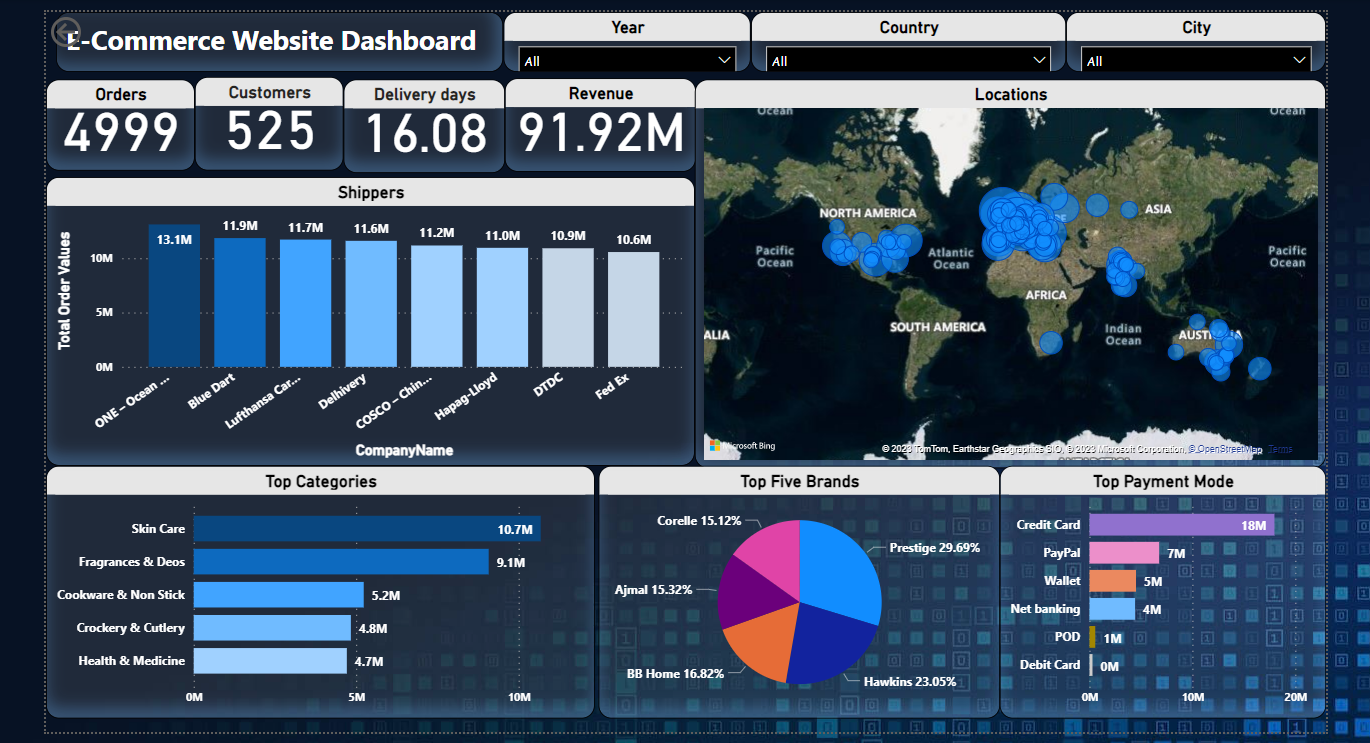

This screenshot's page, from the dashboard's own definition file:
{"tool":"powerbi","page":{"name":"Page 1","canvas":[1280,720],"ordinal":0},"visuals":[{"type":"card","title":"Orders","fields":{"Values":["CountNonNull(Orders (1).OrderID)"]},"box":[0,67.5,148.8,91.2],"z":0},{"type":"card","title":"Customers","fields":{"Values":["CountNonNull(Customers (1).CustomerID)"]},"box":[148.8,65,148.8,93.8],"z":1},{"type":"card","title":"Delivery days","fields":{"Values":["Avg(Orders (1).DIFFERENCE)"]},"box":[297.5,67.5,161.2,93.8],"z":2},{"type":"textbox","box":[10,0,447.5,60],"z":3},{"type":"card","title":"Revenue","fields":{"Values":["Orders (1).SUM_OF_AMOUNT"]},"box":[458.8,66.2,191.2,93.8],"z":4},{"type":"slicer","title":"Country","fields":{"Values":["Customers (1).Country"]},"box":[705,0,315,60],"z":6},{"type":"slicer","title":"City","fields":{"Values":["Customers (1).City"]},"box":[1020,0,260,60],"z":7},{"type":"slicer","title":"Year","fields":{"Values":["Orders (1).Year"]},"box":[457.5,0,247.5,60],"z":8},{"type":"map","title":"Locations","fields":{"Size":["Sum(Orders (1).Total_order_amount)"],"Category":["Customers (1).City"]},"box":[648.8,67.5,631.2,388.8],"z":9},{"type":"actionButton","box":[0,0,100,40],"z":10},{"type":"columnChart","title":"Shippers","fields":{"Category":["Shippers (1).CompanyName"],"Y":["Sum(Orders (1).Total_order_amount)"]},"box":[0,165,648.8,288.8],"z":11},{"type":"pieChart","title":"Top Five Brands","fields":{"Category":["Products (1).Brand"],"Y":["Products (1).REVENUE"]},"box":[552.5,453.8,401.2,252.5],"z":12},{"type":"clusteredBarChart","title":"Top Categories","fields":{"Category":["Products (1).Sub_Category"],"Y":["Products (1).REVENUE"]},"box":[0,453.8,548.8,252.5],"z":13},{"type":"clusteredBarChart","title":"Top Payment Mode","fields":{"Y":["Products (1).REVENUE"],"Category":["Payments (1).PaymentType"]},"box":[953.8,453.8,326.2,252.5],"z":14}]}

Visuals, with their boxes in screenshot pixels (x1, y1, x2, y2):
"Orders" card: select_region(64, 109, 210, 198)
"Customers" card: select_region(210, 107, 356, 198)
"Delivery days" card: select_region(356, 109, 514, 201)
textbox: select_region(74, 43, 513, 102)
"Revenue" card: select_region(514, 108, 701, 200)
"Country" slicer: select_region(755, 43, 1064, 102)
"City" slicer: select_region(1064, 43, 1319, 102)
"Year" slicer: select_region(513, 43, 755, 102)
"Locations" map: select_region(700, 109, 1319, 490)
actionButton: select_region(64, 43, 162, 82)
"Shippers" columnChart: select_region(64, 205, 700, 488)
"Top Five Brands" pieChart: select_region(606, 488, 999, 735)
"Top Categories" clusteredBarChart: select_region(64, 488, 602, 735)
"Top Payment Mode" clusteredBarChart: select_region(999, 488, 1319, 735)
